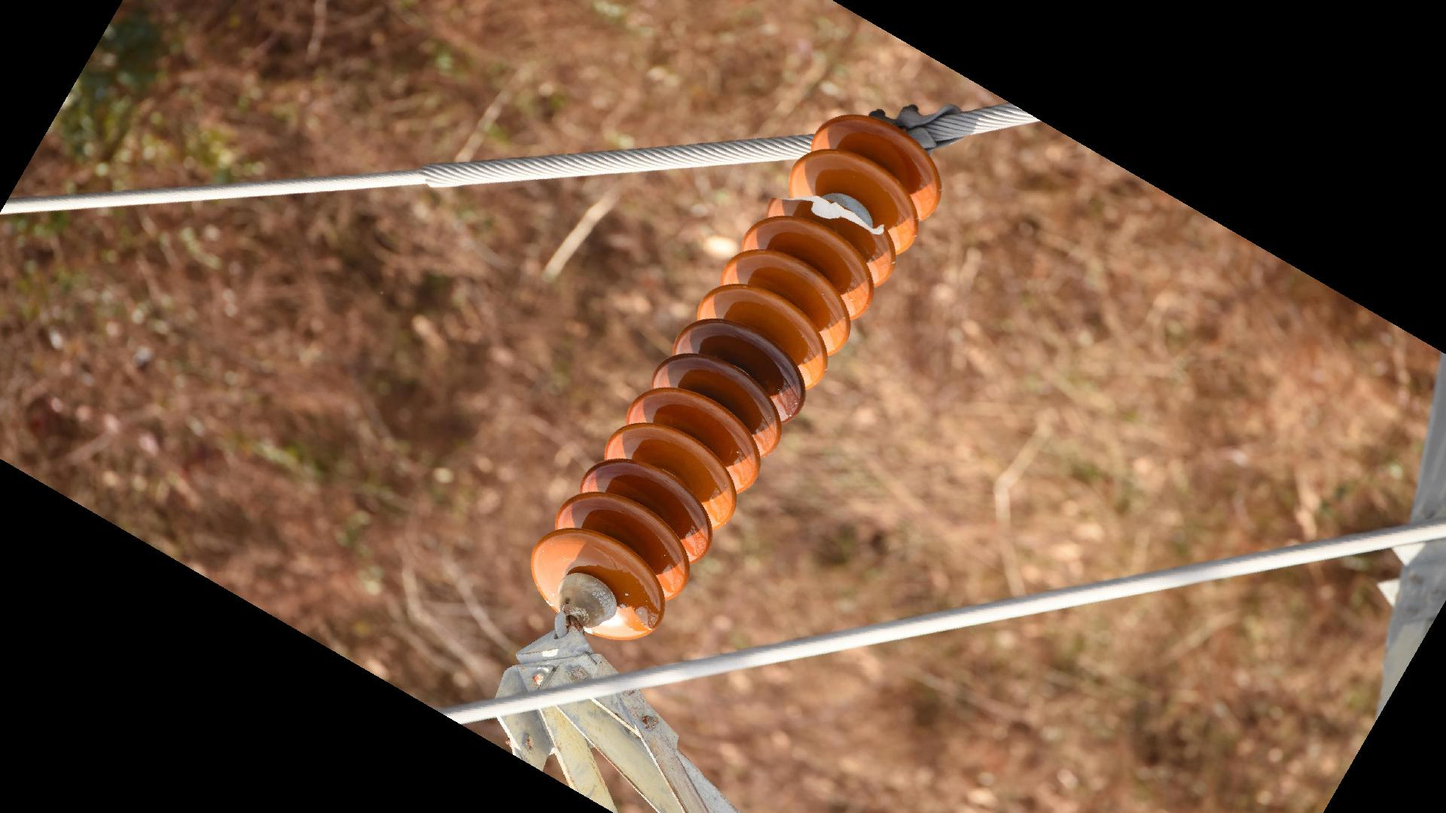insulator: (521, 108, 949, 647)
insulator_breakage: (764, 190, 890, 244)
